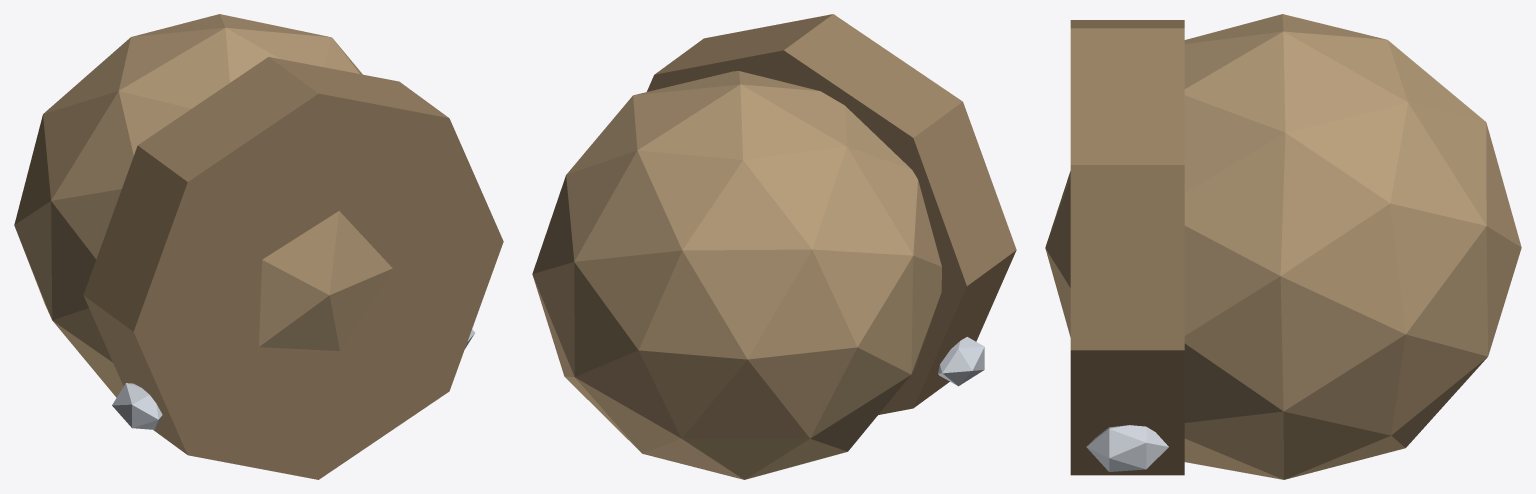
Rendered from HelmetLeather.fbx.
3 views of the same model, side by side, from view 1: azimuth 30°, elevation 25°; view 2: azimuth 150°, elevation 25°; view 3: azimuth 270°, elevation 25° (orthographic). The views are drawn at different scales.
Parts seen in each view (by area): view 1: fam_leather_dark, fam_leather, fam_iron; view 2: fam_leather, fam_leather_dark, fam_iron; view 3: fam_leather, fam_leather_dark, fam_iron.
Part boxes in pixels (x1,y1,x2,y2): fam_leather_dark: (83,57,503,479); fam_leather: (14,14,392,397); fam_iron: (112,329,475,429); fam_leather: (532,71,941,479); fam_leather_dark: (647,14,1016,414); fam_iron: (938,337,984,386); fam_leather: (1045,14,1521,479); fam_leather_dark: (1070,20,1184,475); fam_iron: (1086,425,1168,471).
Size of the model in its own units: 7.13 by 7.11 by 7.
